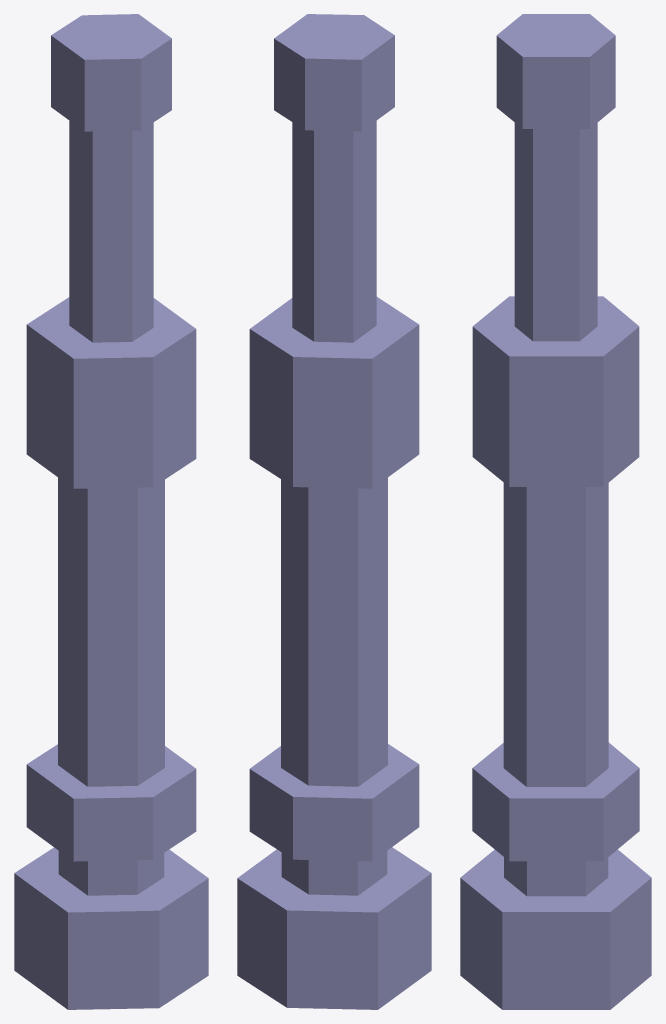
Rendered from tower.glb.
The picture shows the model from 3 angles, left to right: view 1: azimuth 30°, elevation 25°; view 2: azimuth 150°, elevation 25°; view 3: azimuth 270°, elevation 25°; orthographic projection.
Visible parts, largest first — view 1: Cube; view 2: Cube; view 3: Cube.
Boxes of the visible parts, x1,y1,x2,y2 form: Cube: [14, 14, 208, 1009]; Cube: [237, 14, 431, 1009]; Cube: [460, 14, 651, 1009].
Size of the model in its own units: 3.02 by 19.21 by 3.55.
